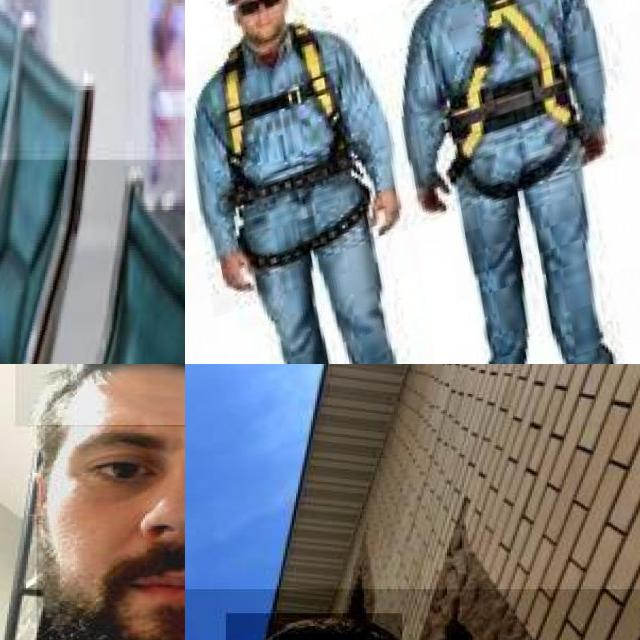Harness: (223, 25, 369, 269), (449, 0, 574, 180)
No_Glasses: (45, 415, 185, 522)
face_nomask: (36, 425, 185, 640)
head_nohelmet: (15, 364, 185, 428), (225, 613, 402, 640)
person: (0, 364, 185, 640), (0, 160, 185, 364)
